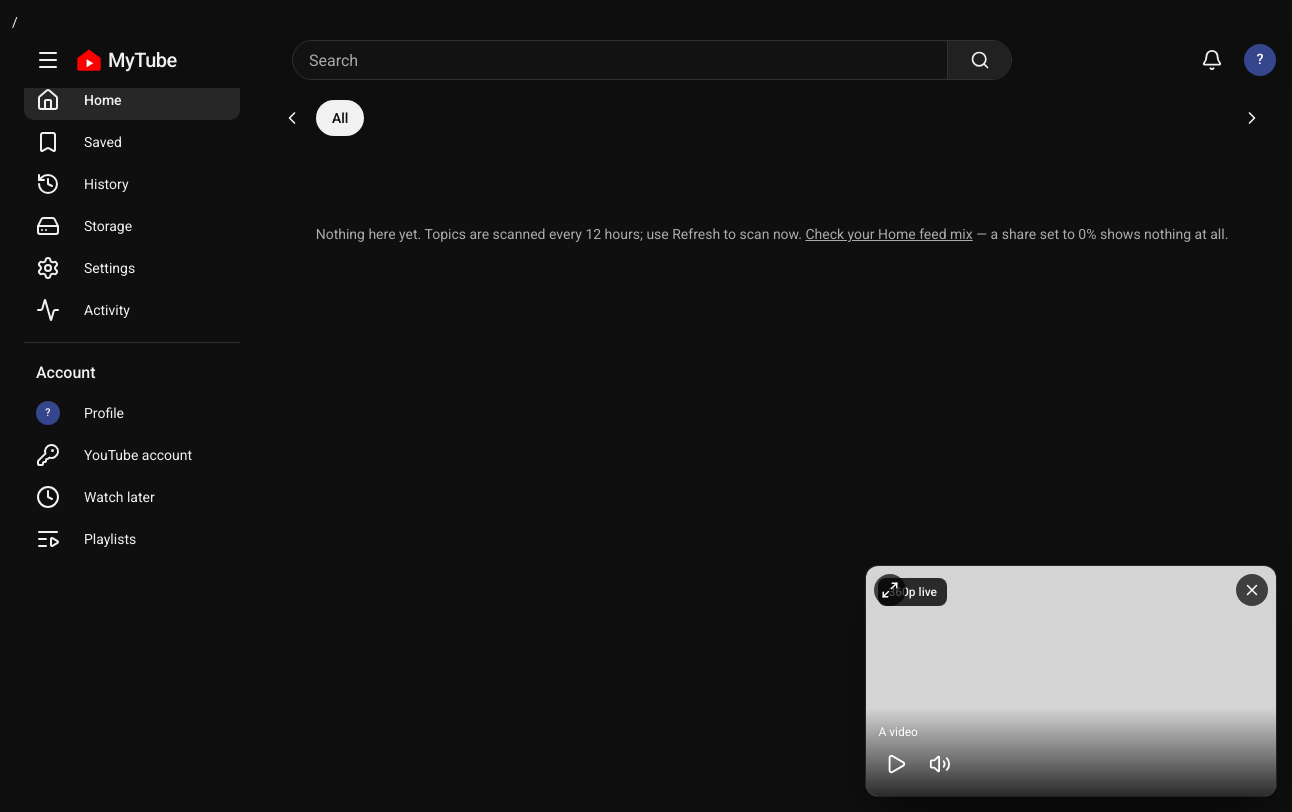
reloading on the watch page and then leaving it › leaves one player in the corner, not two
Click the button named "Close player" at (1252, 590), box [1236,574,1268,606]
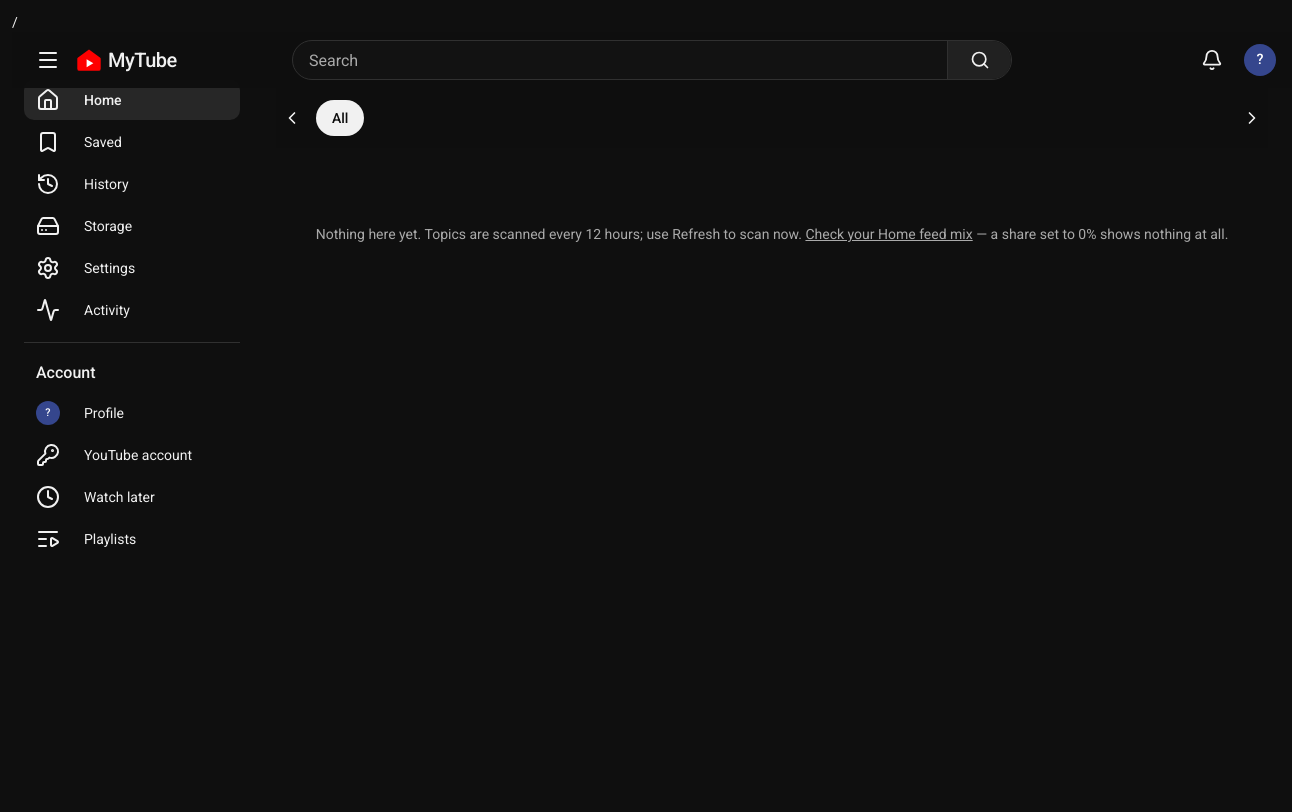
expect the element with test id "player-host" is gone: met
